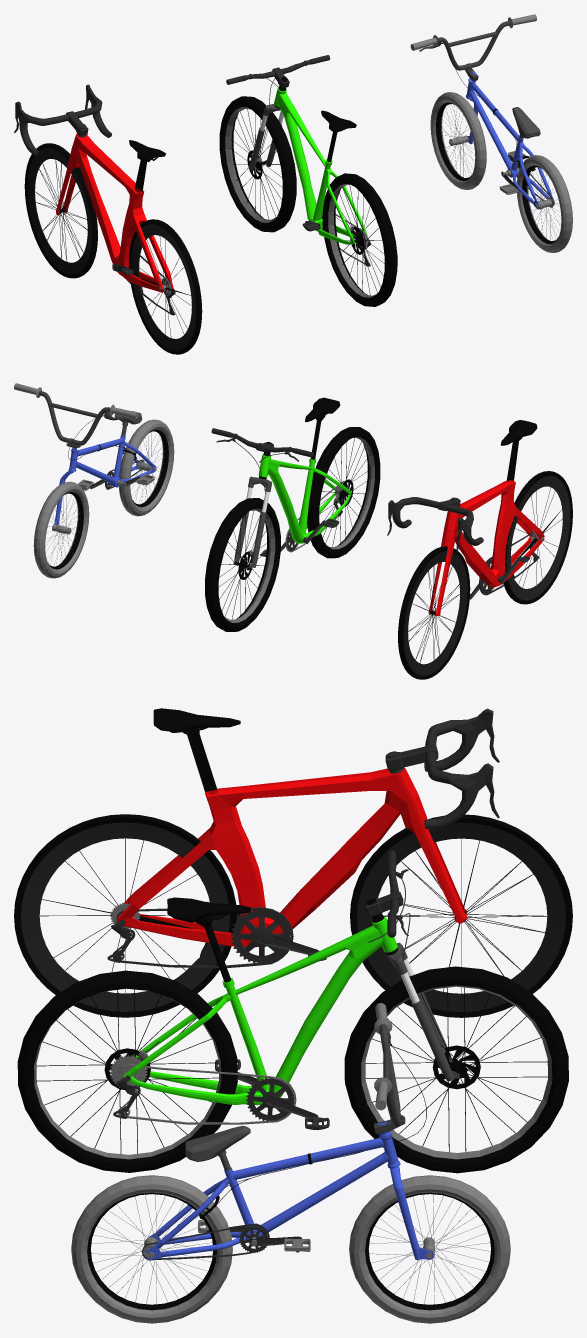
Rendered from bikes.glb.
The picture shows the model from 3 angles, top to bottom: view 1: azimuth 30°, elevation 25°; view 2: azimuth 150°, elevation 25°; view 3: azimuth 270°, elevation 25°; orthographic projection. The views are drawn at different scales.
Parts seen in each view (by area): view 1: frame, front wheel.002, free wheel.001, front wheel.001, freewheel, front wheel, frame.001, free wheel, Cylinder.002, handlebar, handlebar.001, handle bar (+5 smaller); view 2: front wheel.002, frame, free wheel.001, front wheel.001, freewheel, front wheel, free wheel, frame.001, handlebar, Cylinder.002, handlebar.001, fork (+6 smaller); view 3: frame, front wheel.002, freewheel, front wheel.001, free wheel.001, front wheel, free wheel, frame.001, Cylinder.002, handlebar, bracket, bracket.001 (+9 smaller).
Boxes of the visible parts, x1,y1,x2,y2 form: frame: [56, 133, 173, 292]; front wheel.002: [219, 96, 296, 232]; free wheel.001: [322, 173, 397, 306]; front wheel.001: [24, 143, 97, 278]; freewheel: [129, 219, 202, 354]; front wheel: [430, 92, 486, 189]; frame.001: [274, 86, 366, 244]; free wheel: [517, 155, 572, 252]; Cylinder.002: [465, 78, 554, 209]; handlebar: [14, 84, 111, 155]; handlebar.001: [410, 14, 536, 81]; handle bar: [226, 55, 349, 227]; front wheel.002: [205, 498, 280, 631]; frame: [428, 480, 544, 616]; free wheel.001: [307, 427, 380, 558]; front wheel.001: [398, 546, 470, 679]; freewheel: [503, 471, 572, 604]; front wheel: [33, 481, 89, 578]; free wheel: [119, 419, 174, 516]; frame.001: [258, 455, 351, 543]; handlebar: [387, 497, 483, 552]; Cylinder.002: [68, 435, 156, 487]; handlebar.001: [14, 383, 138, 448]; fork: [233, 442, 272, 568]; frame: [117, 767, 466, 947]; front wheel.002: [344, 966, 568, 1173]; freewheel: [14, 814, 236, 1017]; front wheel.001: [350, 814, 572, 1017]; free wheel.001: [17, 970, 237, 1172]; front wheel: [349, 1175, 510, 1323]; free wheel: [71, 1175, 232, 1323]; frame.001: [123, 916, 397, 1105]; Cylinder.002: [146, 1133, 400, 1259]; handlebar: [385, 708, 499, 828]; bracket: [107, 901, 326, 968]; bracket.001: [109, 1055, 329, 1129].
Size of the model in its own units: 16.78 by 6.18 by 10.31.
